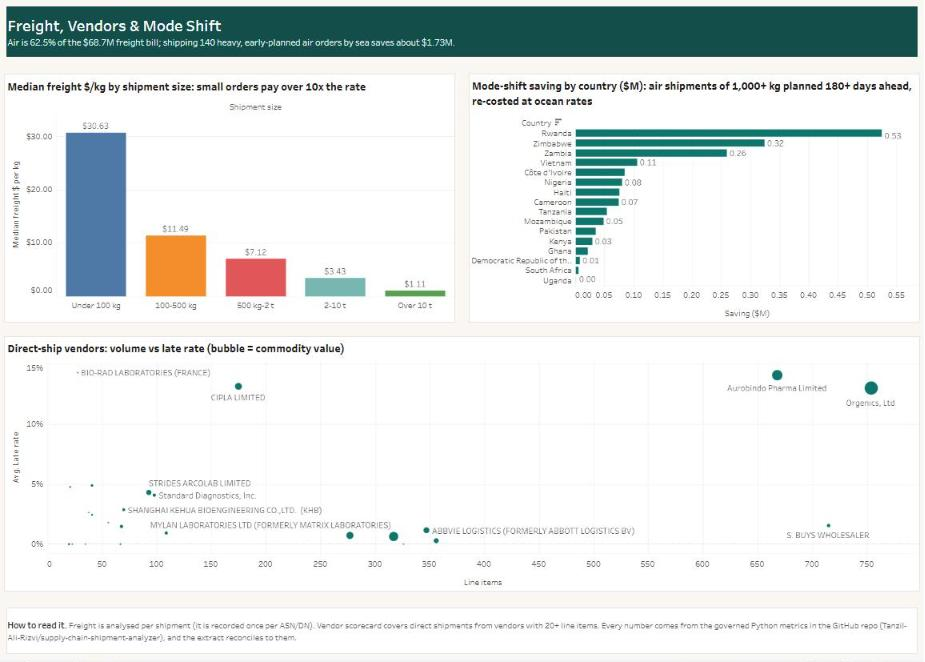

The page's visual inventory and layout, read from the dashboard file:
{"tool":"tableau","page":{"name":"Freight, Vendors & Mode Shift","canvas":[1400,1000],"ordinal":1},"visuals":[{"type":"text","box":[16,10,1368,94]},{"type":"worksheet","title":"Cost per kg by size","mark":"Bar","rows":["Calc_median_kg"],"cols":["weight_band"],"box":[16,114,680,380]},{"type":"worksheet","title":"Mode-shift saving by country","mark":"Bar","rows":["country"],"cols":["saving_musd"],"box":[704,114,680,380]},{"type":"worksheet","title":"Vendor scorecard","mark":"Circle","rows":["late_rate"],"cols":["lines"],"box":[16,502,1368,390]},{"type":"text","box":[16,900,1368,88]}]}

Visuals, with their boxes in screenshot pixels (x1, y1, x2, y2), scaled from the page's 1400x1000 canvas onto the 925x662 screenshot:
text: [left=11, top=7, right=914, bottom=69]
"Cost per kg by size" worksheet (Bar marks): [left=11, top=75, right=460, bottom=327]
"Mode-shift saving by country" worksheet (Bar marks): [left=465, top=75, right=914, bottom=327]
"Vendor scorecard" worksheet (Circle marks): [left=11, top=332, right=914, bottom=591]
text: [left=11, top=596, right=914, bottom=654]
